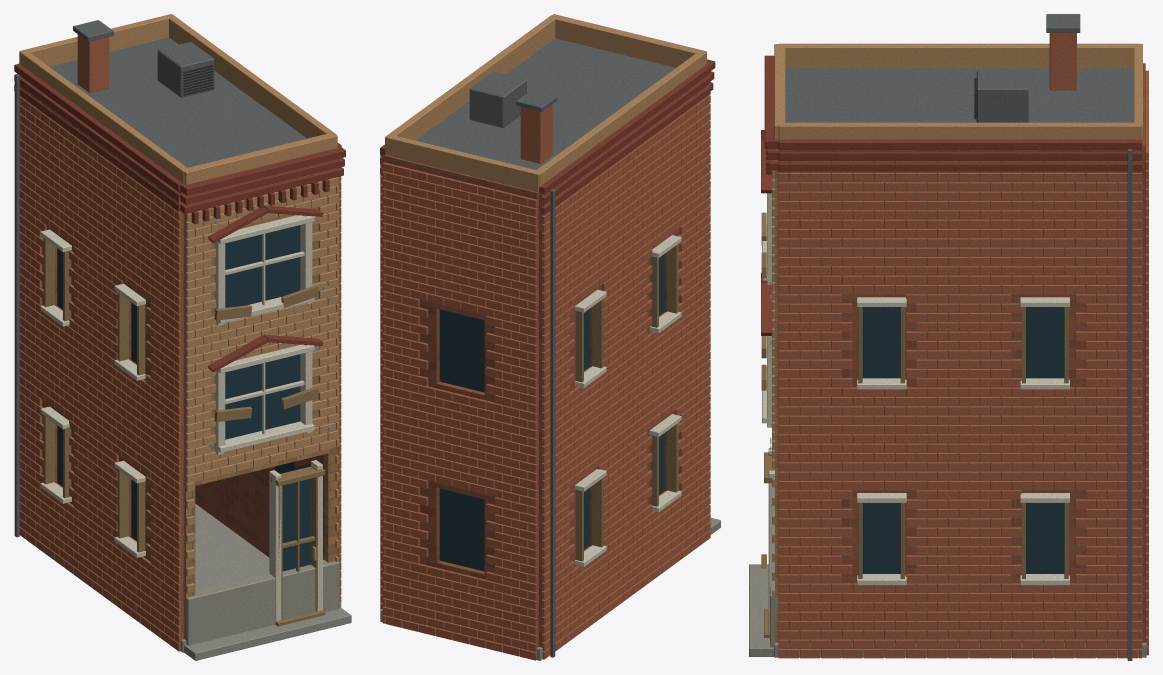
Rendered from VICT1B_lod0.glb.
The picture shows the model from 3 angles, left to right: view 1: azimuth 30°, elevation 25°; view 2: azimuth 150°, elevation 25°; view 3: azimuth 270°, elevation 25°; orthographic projection. The views are drawn at different scales.
Visible parts, largest first — view 1: VICT1B_LOD0; view 2: VICT1B_LOD0; view 3: VICT1B_LOD0.
Boxes of the visible parts, bbox=[...] form: VICT1B_LOD0: bbox=[14, 14, 351, 660]; VICT1B_LOD0: bbox=[380, 14, 720, 660]; VICT1B_LOD0: bbox=[749, 14, 1148, 660].
Size of the model in its own units: 3.71 by 10.45 by 6.6.
Materials: 18 (15 with a texture image).
